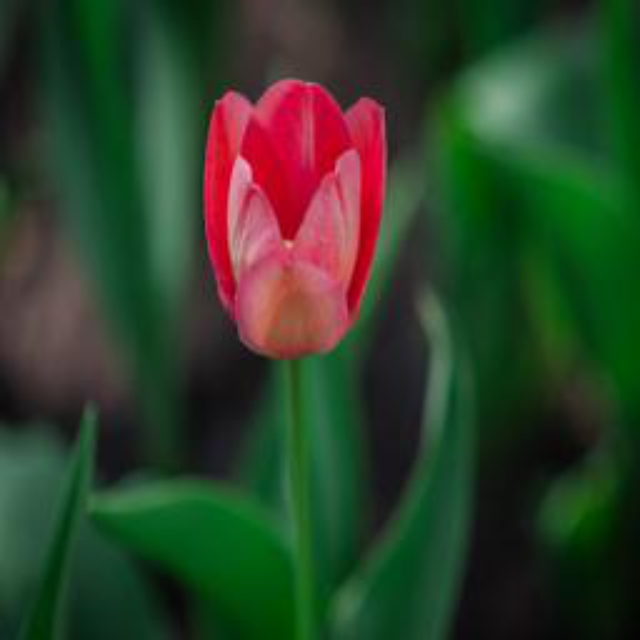tulip: (201, 73, 391, 368)
